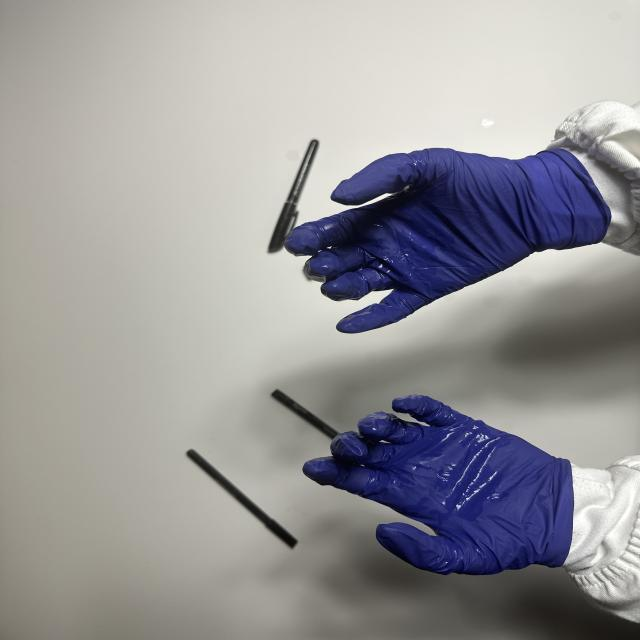gloves_contaminated: (285, 148, 610, 334), (303, 395, 574, 575)
